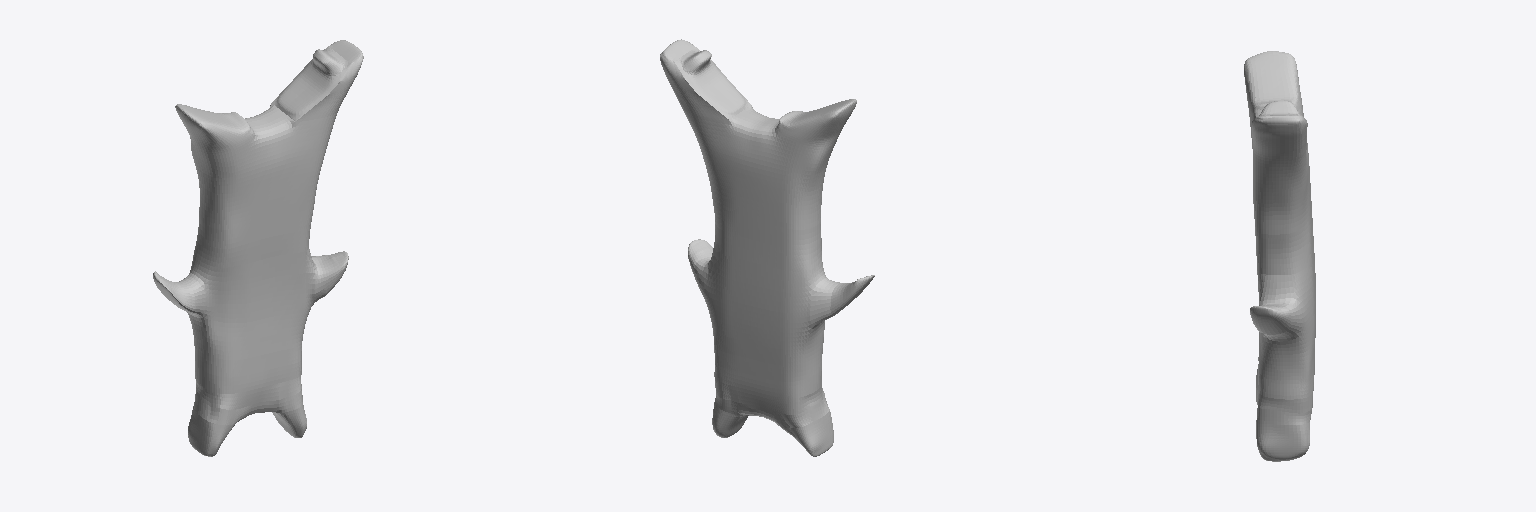
Rendered from korok8.obj.
The picture shows the model from 3 angles: view 1: azimuth 30°, elevation 25°; view 2: azimuth 150°, elevation 25°; view 3: azimuth 270°, elevation 25°; orthographic projection.
Visible parts, largest first — view 1: Plane; view 2: Plane; view 3: Plane.
Part boxes in pixels (x1,y1,x2,y2): Plane: (153, 40, 363, 456); Plane: (660, 39, 874, 456); Plane: (1244, 51, 1315, 461).
Bounding box in the file's own units: 1.02 × 1.82 × 0.3184.